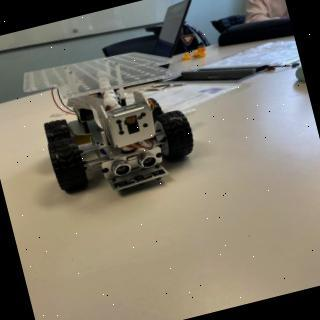vehicle: (15, 33, 205, 214)
